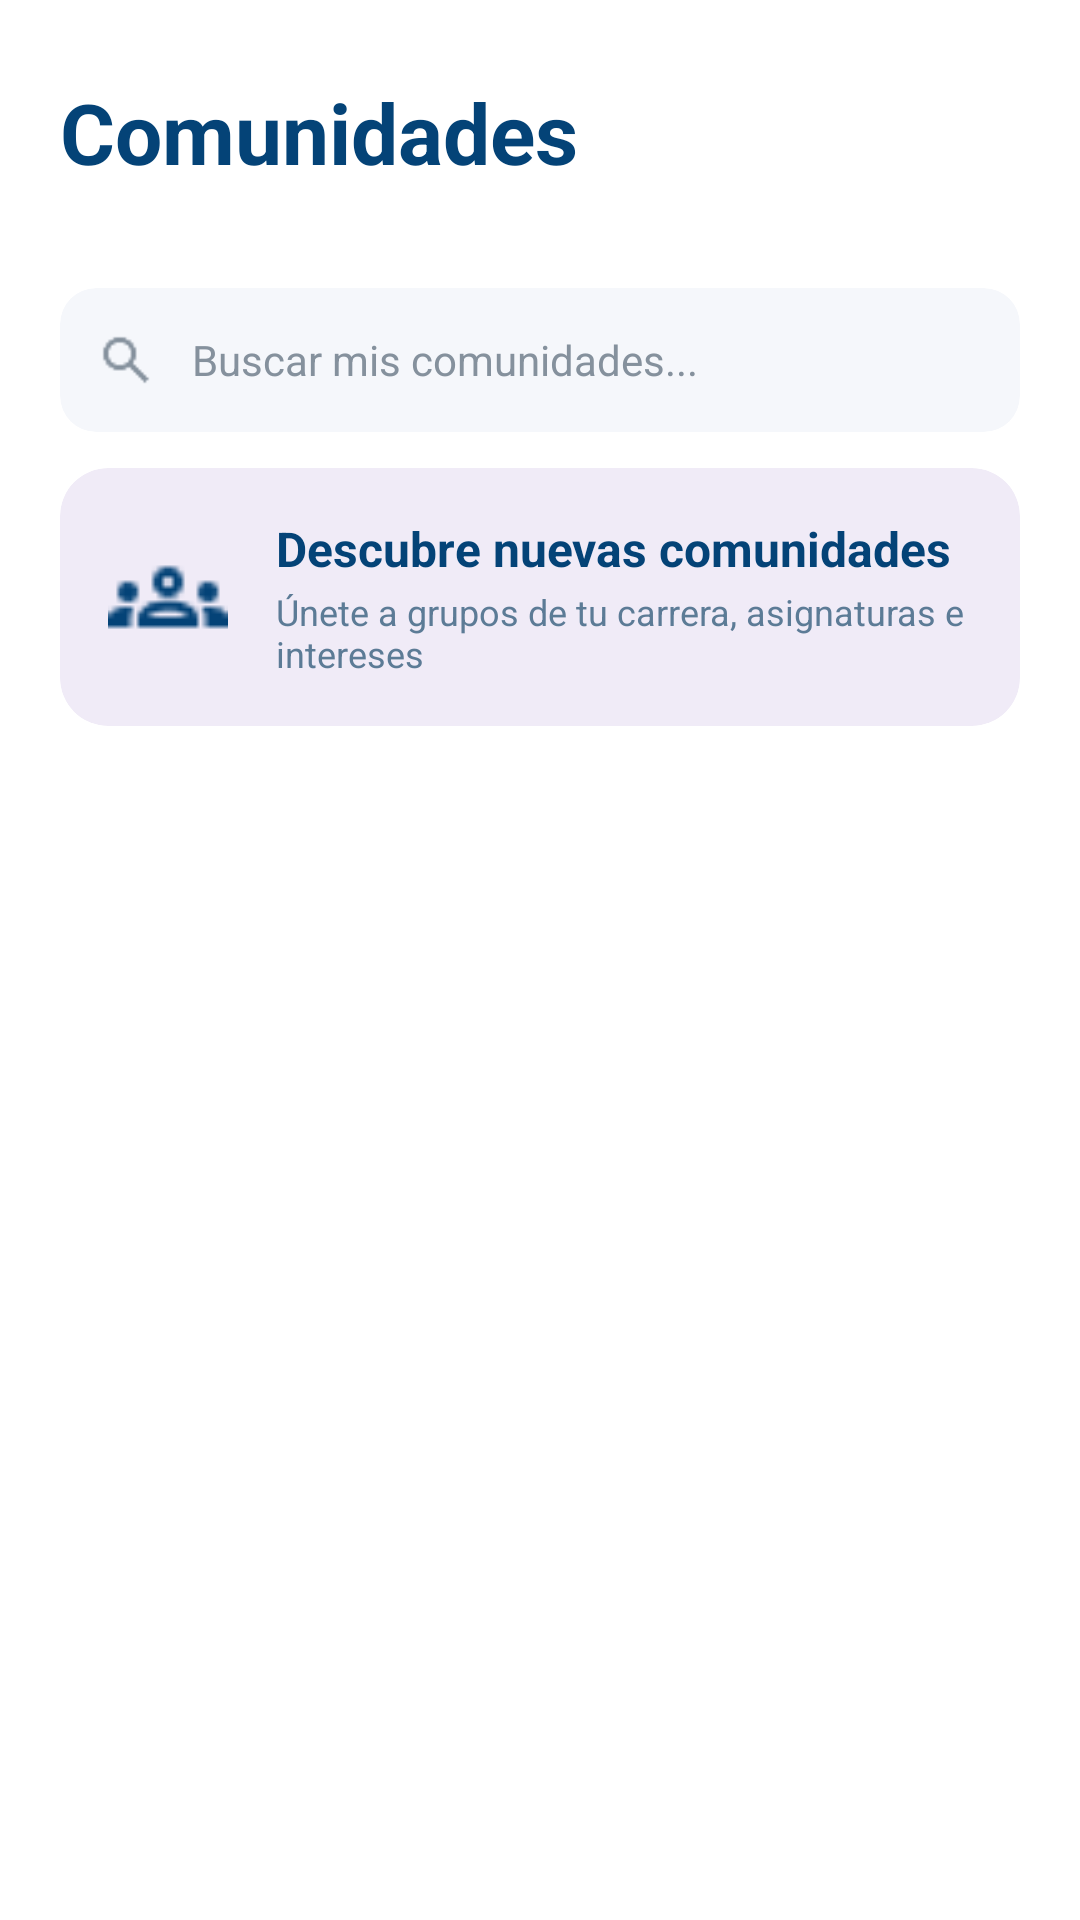

Icon bounding boxes for this 1080px x 1920px phone screenshot, format box=[x1, y1, x2, y2]:
groups: box=[108, 565, 228, 629]
lupa: box=[103, 337, 149, 383]
